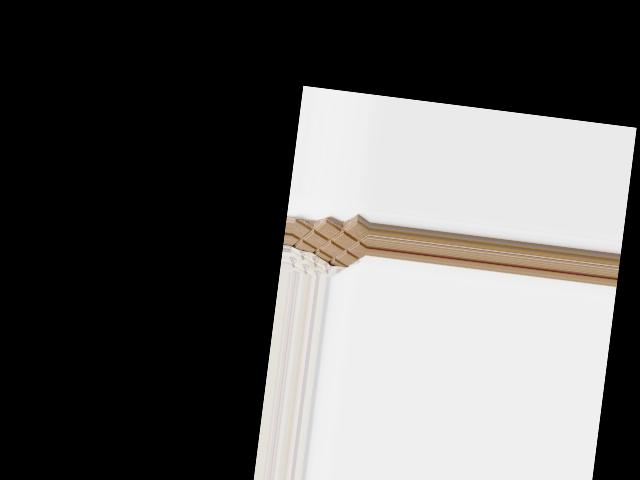chocolate: (287, 212, 368, 280)
